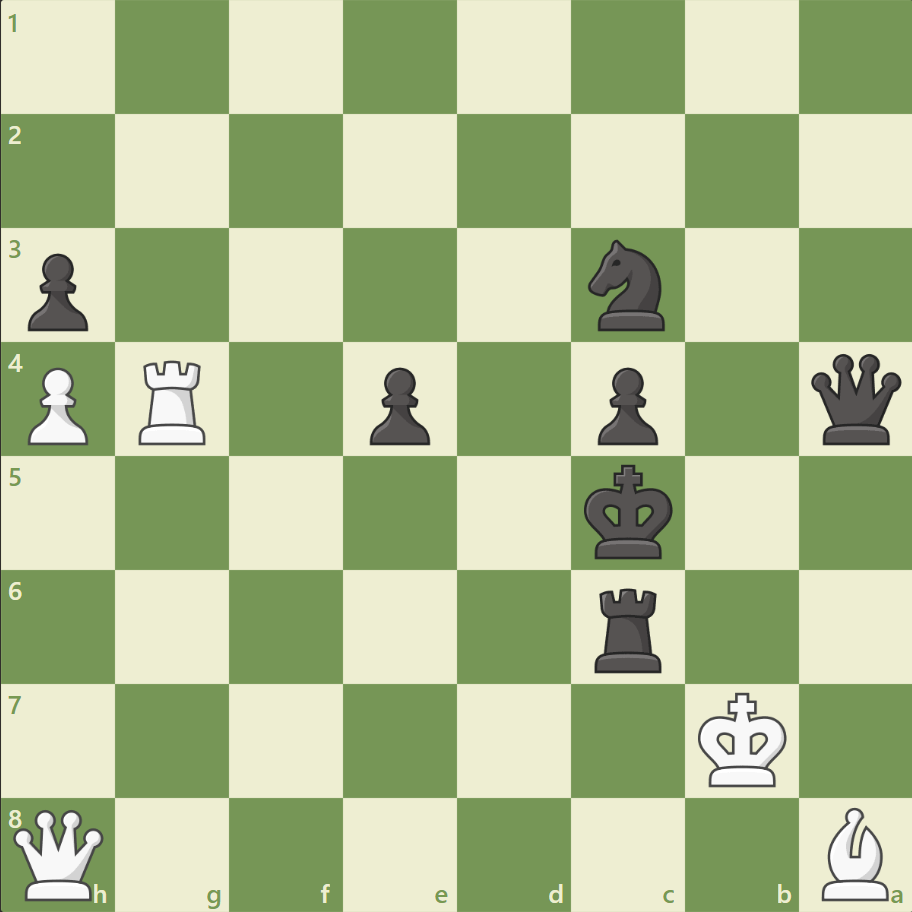B: (812, 801, 896, 904)
K: (692, 685, 792, 793)
P: (20, 359, 95, 450)
Q: (10, 804, 109, 903)
R: (133, 352, 215, 449)
k: (579, 458, 679, 566)
n: (579, 234, 676, 337)
p: (20, 246, 95, 337), (588, 359, 662, 450), (361, 359, 435, 450)
q: (805, 349, 904, 449)
r: (587, 579, 670, 676)
